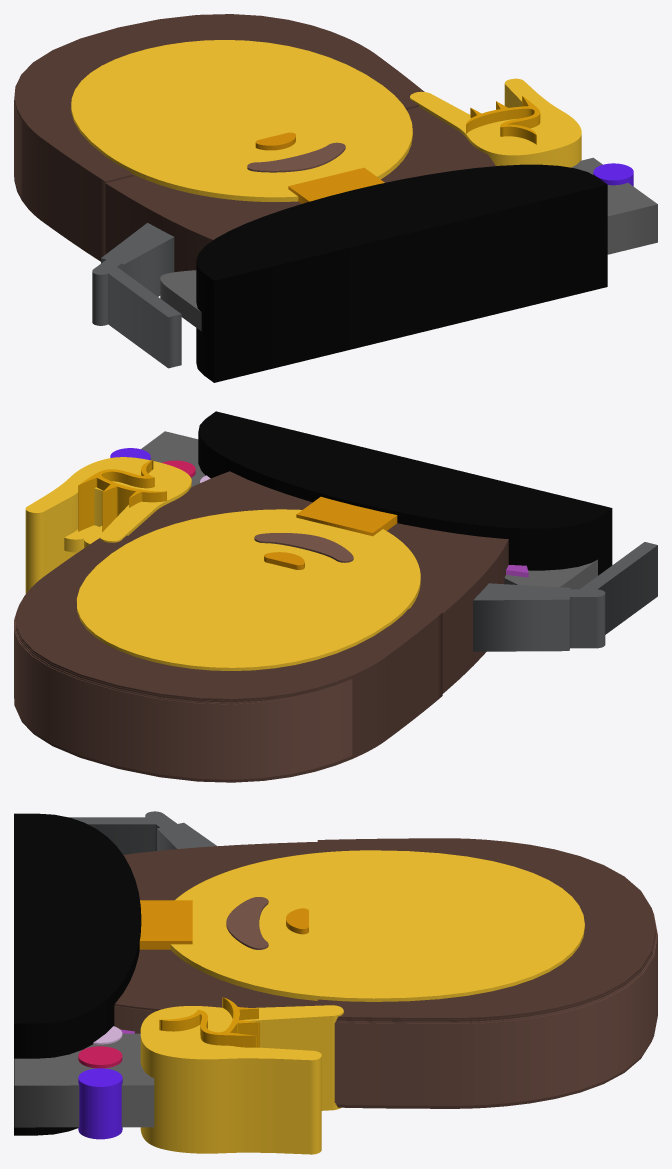
File: emoji_u1f469_200d_1f3a4.glb
3 renders of one model, top to bottom at view 1: azimuth 30°, elevation 25°; view 2: azimuth 150°, elevation 25°; view 3: azimuth 270°, elevation 25°, orthographic. The views are drawn at different scales.
Parts seen in each view (by area): view 1: emoji_u1f469_200d_1f3a4; view 2: emoji_u1f469_200d_1f3a4; view 3: emoji_u1f469_200d_1f3a4.
Part boxes in pixels (left/top/right/bottom): emoji_u1f469_200d_1f3a4: left=14, top=14, right=657, bottom=382; emoji_u1f469_200d_1f3a4: left=14, top=411, right=657, bottom=782; emoji_u1f469_200d_1f3a4: left=14, top=811, right=657, bottom=1154.
Size of the model in its own units: 0.0336 by 0.0066 by 0.0334.
